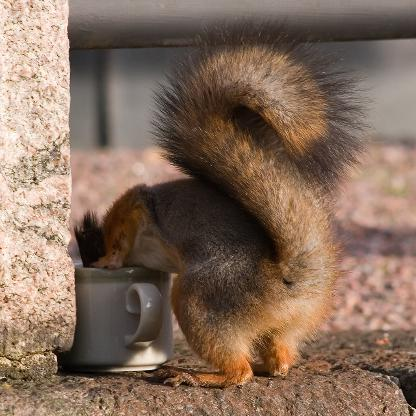Squirrel: (74, 15, 372, 385)
